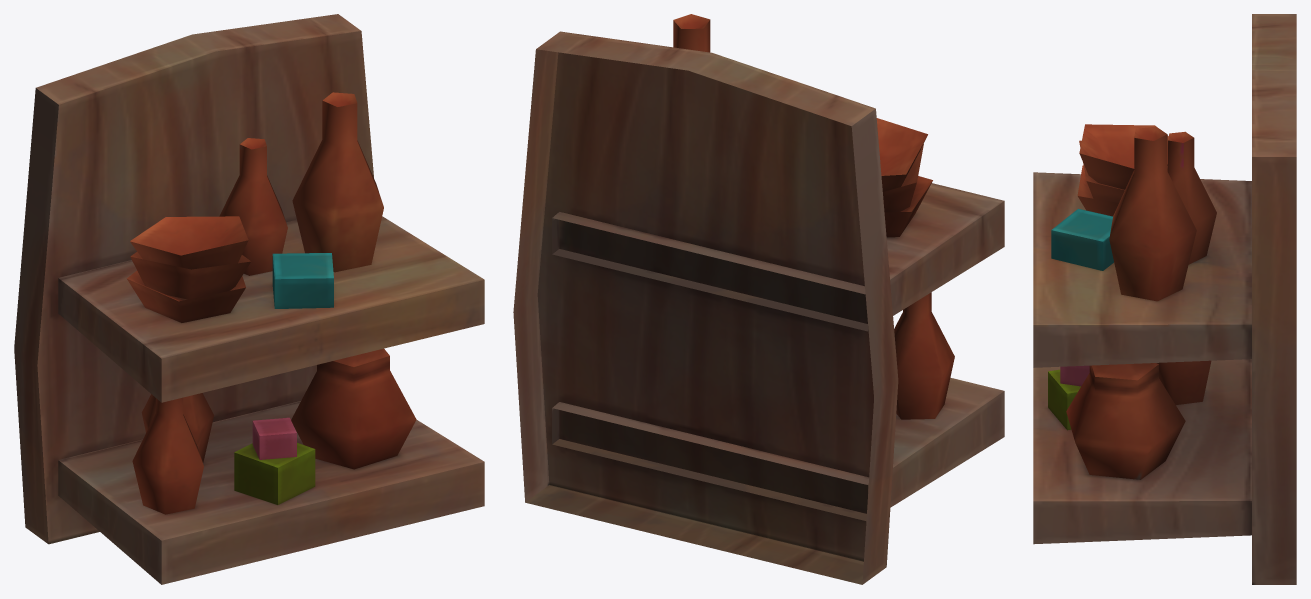
The model's file is furnitureSet_shelves.FBX.
The picture shows the model from 3 angles, left to right: view 1: azimuth 30°, elevation 25°; view 2: azimuth 150°, elevation 25°; view 3: azimuth 270°, elevation 25°; orthographic projection. The views are drawn at different scales.
Parts seen in each view (by area): view 1: furnitureSet_shelves; view 2: furnitureSet_shelves; view 3: furnitureSet_shelves.
Boxes of the visible parts, bbox=[...] form: furnitureSet_shelves: bbox=[14, 14, 484, 584]; furnitureSet_shelves: bbox=[513, 14, 1004, 584]; furnitureSet_shelves: bbox=[1033, 14, 1296, 584].
Bounding box in the file's own units: 59.65 × 74.57 × 40.7.
1 material, 1 textured.
